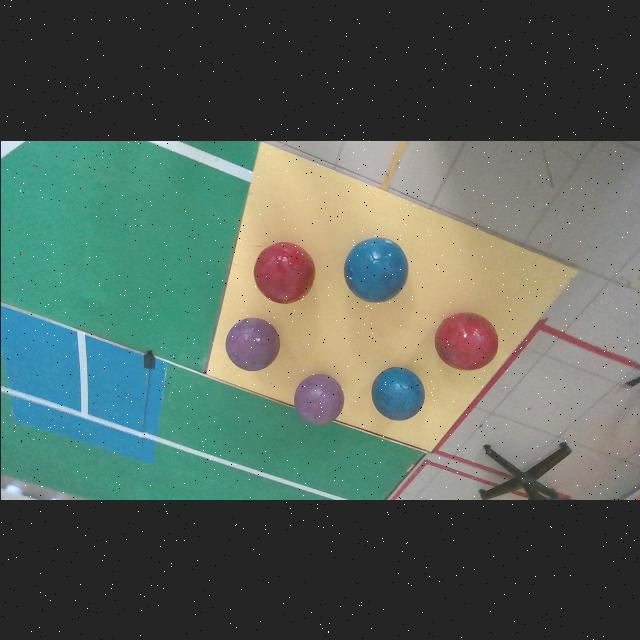B: (343, 238, 408, 303), (372, 367, 424, 421)
P: (225, 319, 278, 371), (293, 373, 343, 425)
R: (253, 242, 315, 304), (435, 313, 497, 370)
